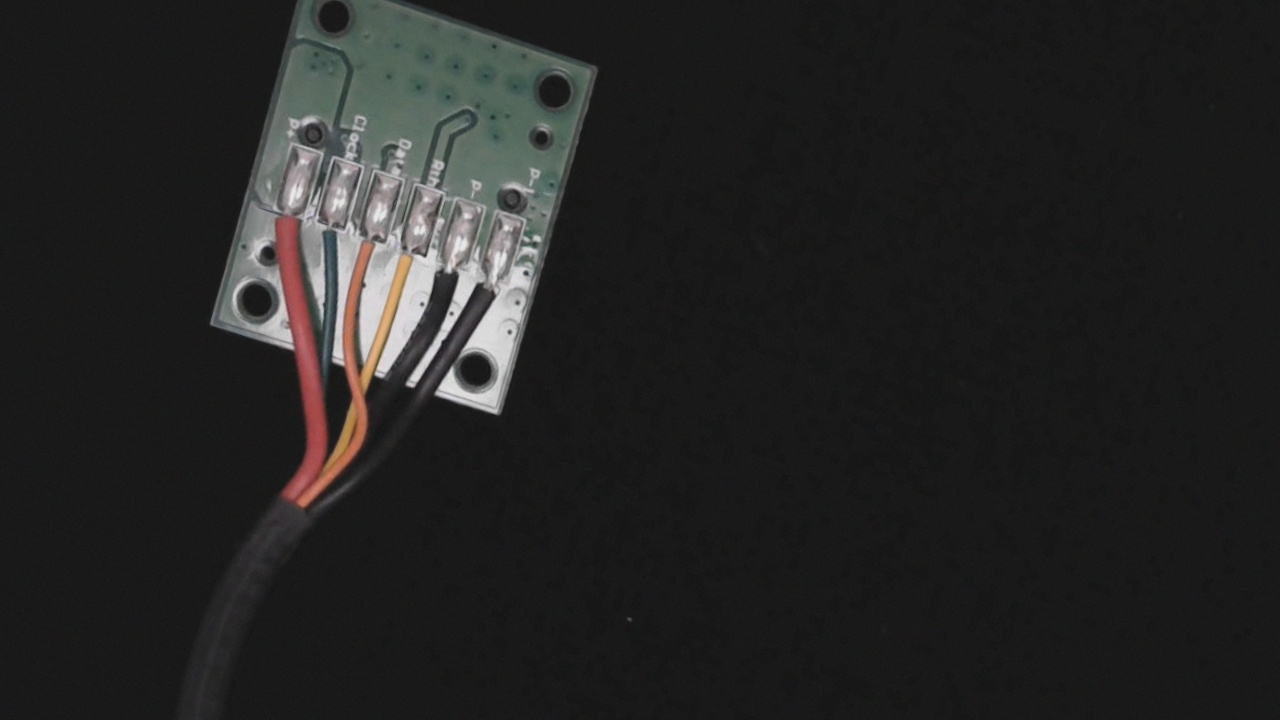Black: (418, 241, 474, 324)
Black1: (458, 254, 516, 336)
Green: (298, 200, 355, 278)
Orange: (338, 209, 396, 297)
Red: (252, 186, 313, 273)
Yellow: (374, 224, 435, 314)
